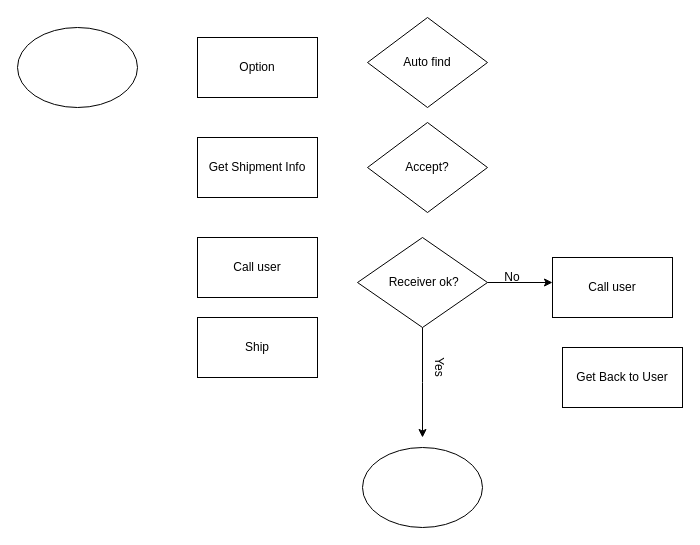
Some shapes in this 700 by 545 pixel diagram are drawn without their labels. Each missing label, with the centre of its shape:
"End" belongs at point 422,487.
"Located me" belongs at point 77,67.
